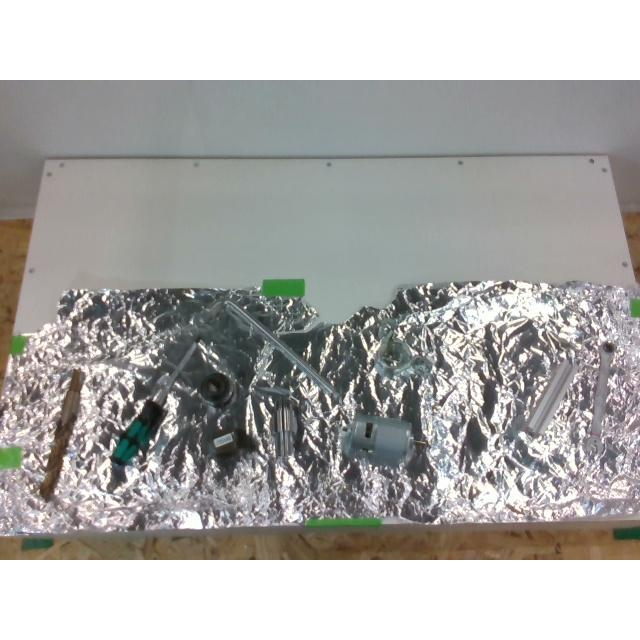AllenKey: (208, 300, 339, 400)
Axis2: (273, 397, 297, 457)
Bearing2: (198, 372, 234, 408)
Drill: (40, 369, 84, 501)
F20_20_G: (522, 359, 574, 436)
Housing: (374, 326, 432, 378)
Motor2: (344, 414, 428, 466)
Screwdriver: (112, 341, 196, 465)
Wrench: (588, 343, 616, 452)
